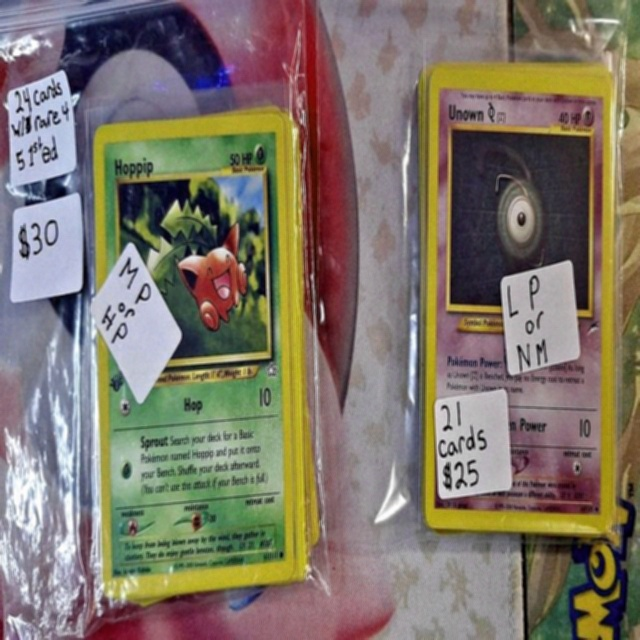card: (93, 111, 295, 600), (425, 65, 612, 535)
